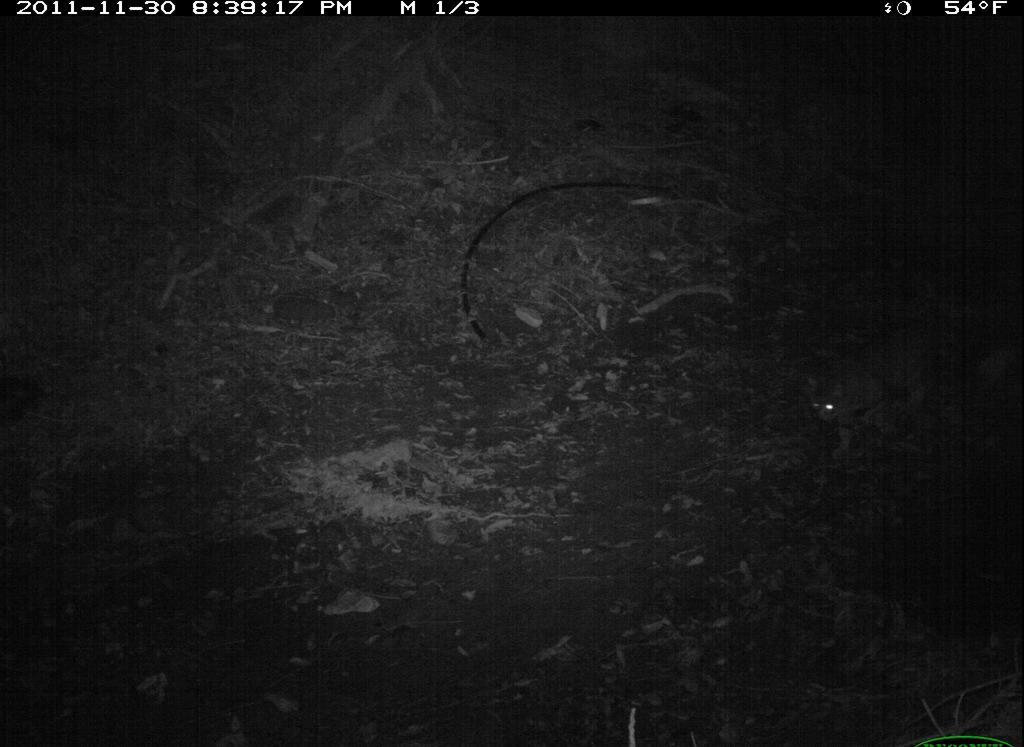cat: (809, 319, 953, 454)
